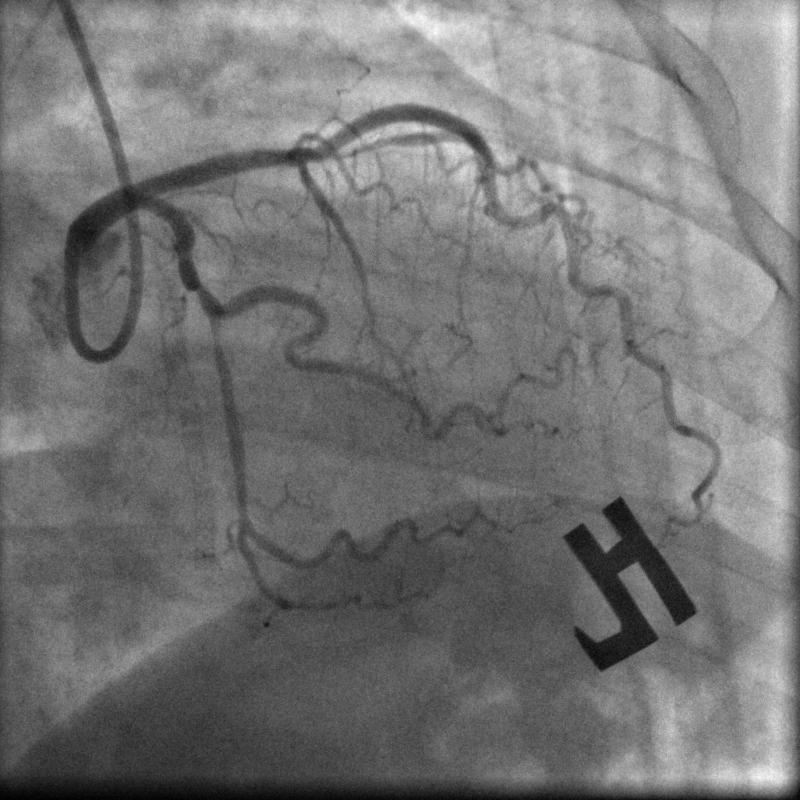Stenosis: (171, 229, 216, 312)
